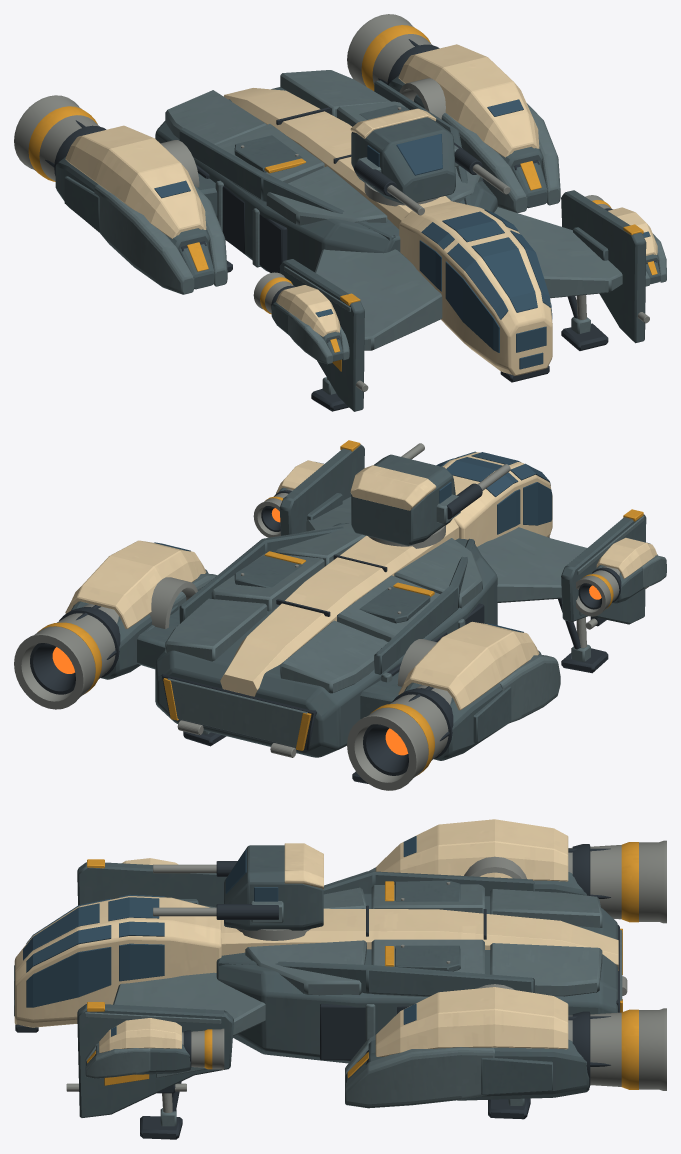
Rendered from cutlass_01.glb.
3 views of the same model, one above another, from view 1: azimuth 30°, elevation 25°; view 2: azimuth 150°, elevation 25°; view 3: azimuth 270°, elevation 25° (orthographic). The views are drawn at different scales.
Visible parts, largest first — view 1: VH_Consolidated_LOD0; view 2: VH_Consolidated_LOD0; view 3: VH_Consolidated_LOD0.
Boxes of the visible parts, x1=… form: VH_Consolidated_LOD0: x1=14, y1=14, x2=666, y2=411; VH_Consolidated_LOD0: x1=14, y1=440, x2=666, y2=790; VH_Consolidated_LOD0: x1=14, y1=819, x2=666, y2=1139.
Size of the model in its own units: 12.08 by 5.75 by 16.
8 materials, 4 textured.
